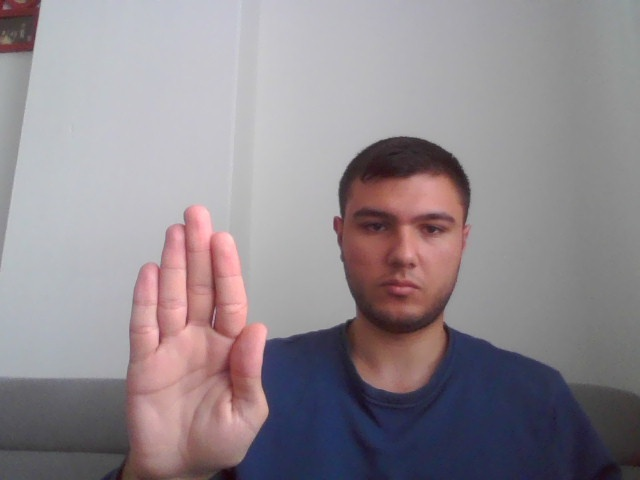Hello: (121, 203, 273, 472)
